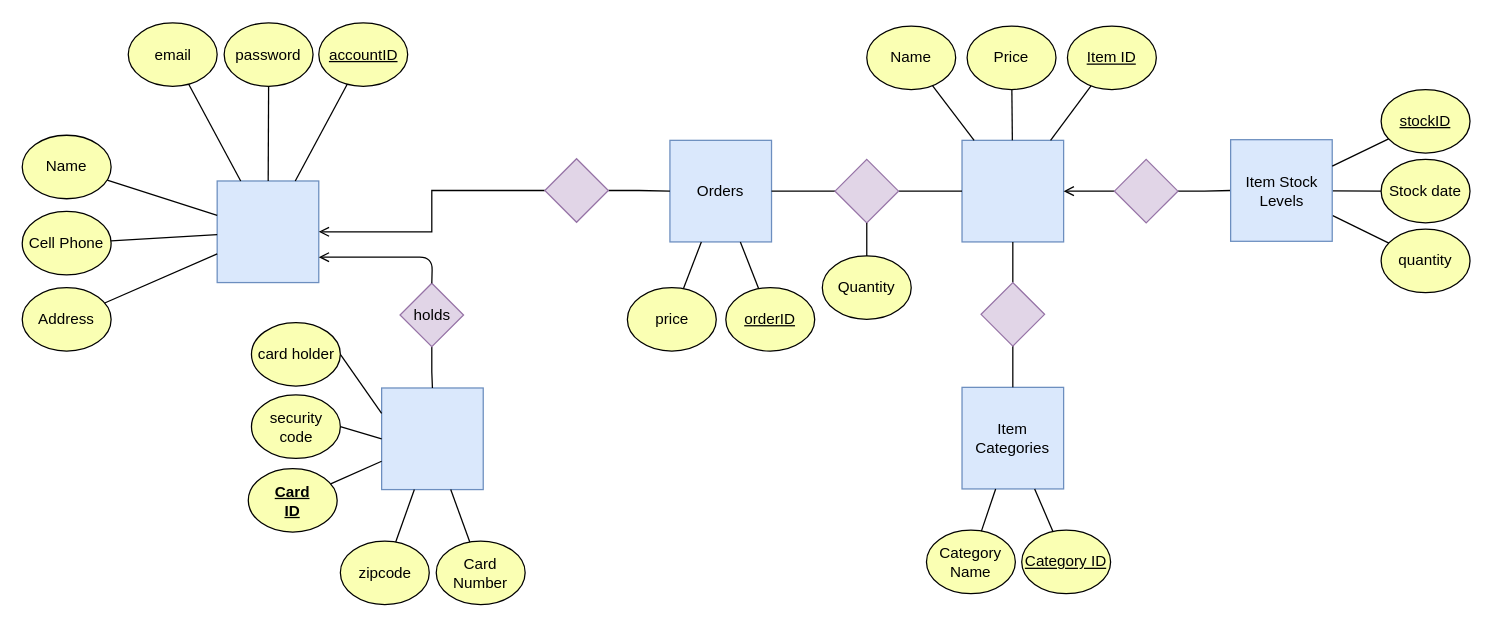
Image size: 1492x626. Some labels were removed from this diagram. The shapes that lost their labels are listed below. From the top down, each one's centre as x and y in pixels, then its label:
At point (576, 189): "make".
At point (866, 190): "contain".
At point (1012, 190): "Item".
At point (1145, 190): "has".
At point (267, 231): "Account".
At point (1012, 313): "belongs".
At point (431, 438): "Card Info".
